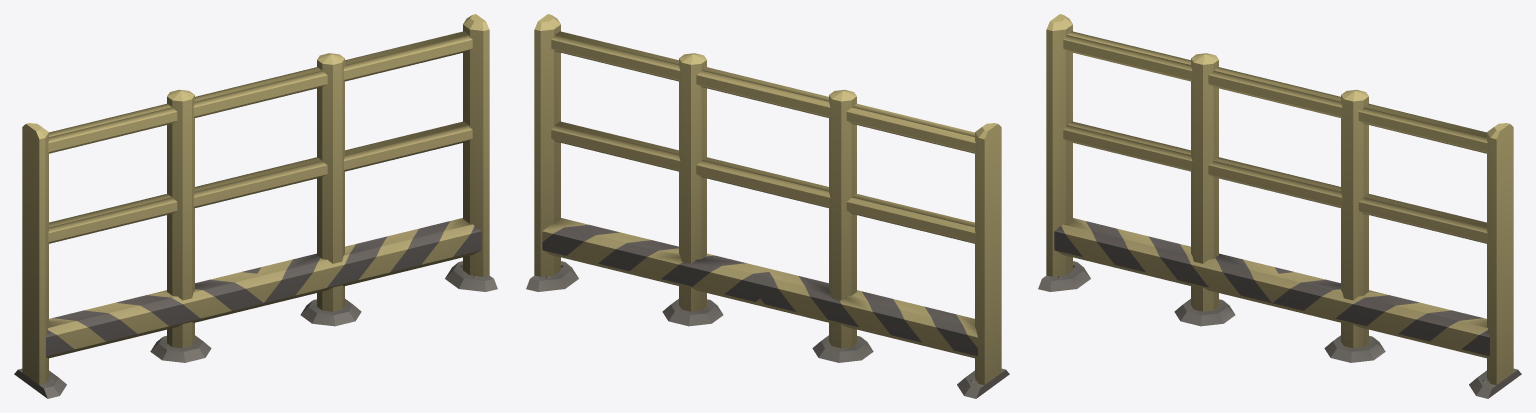
Rendered from pedbar.glb.
3 views of the same model, side by side, from view 1: azimuth 30°, elevation 25°; view 2: azimuth 150°, elevation 25°; view 3: azimuth 330°, elevation 25° (orthographic).
Parts seen in each view (by area): view 1: pedbar; view 2: pedbar; view 3: pedbar.
Part boxes in pixels (bbox=[...]): pedbar: bbox=[14, 14, 497, 398]; pedbar: bbox=[526, 14, 1009, 398]; pedbar: bbox=[1038, 14, 1521, 398].
Size of the model in its own units: 2 by 1.1 by 0.26.
